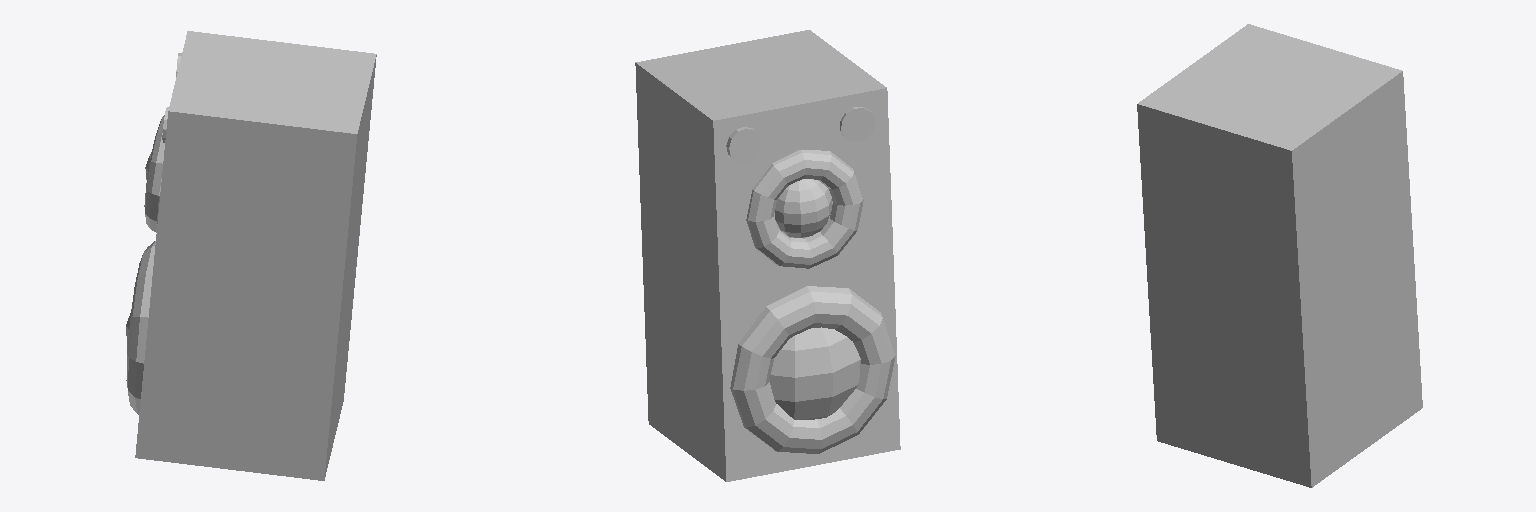
The model's file is speaker-model.obj.
The picture shows the model from 3 angles: view 1: azimuth 30°, elevation 25°; view 2: azimuth 150°, elevation 25°; view 3: azimuth 270°, elevation 25°; orthographic projection.
Parts seen in each view (by area): view 1: group[number redacted], group[number redacted], group[number redacted]; view 2: group[number redacted], group[number redacted], group[number redacted], group[number redacted], group[number redacted], group[number redacted], group[number redacted]; view 3: group[number redacted].
Part boxes in pixels (x1,y1,x2,y2): group[number redacted]: (135, 31, 376, 480); group[number redacted]: (126, 241, 155, 414); group[number redacted]: (144, 115, 164, 232); group[number redacted]: (635, 30, 900, 481); group[number redacted]: (730, 286, 895, 453); group[number redacted]: (746, 150, 863, 268); group[number redacted]: (770, 327, 860, 419); group[number redacted]: (775, 179, 832, 237); group[number redacted]: (726, 127, 761, 162); group[number redacted]: (840, 107, 874, 141); group[number redacted]: (1137, 24, 1422, 487).
Size of the model in its own units: 1.1 by 1.51 by 1.08.